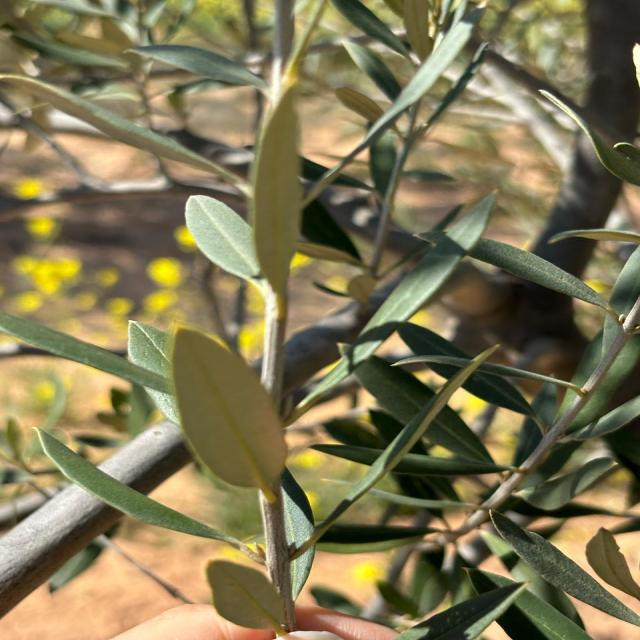Healthy: (35, 428, 264, 564), (168, 326, 287, 504), (185, 196, 266, 286), (206, 559, 289, 636)
